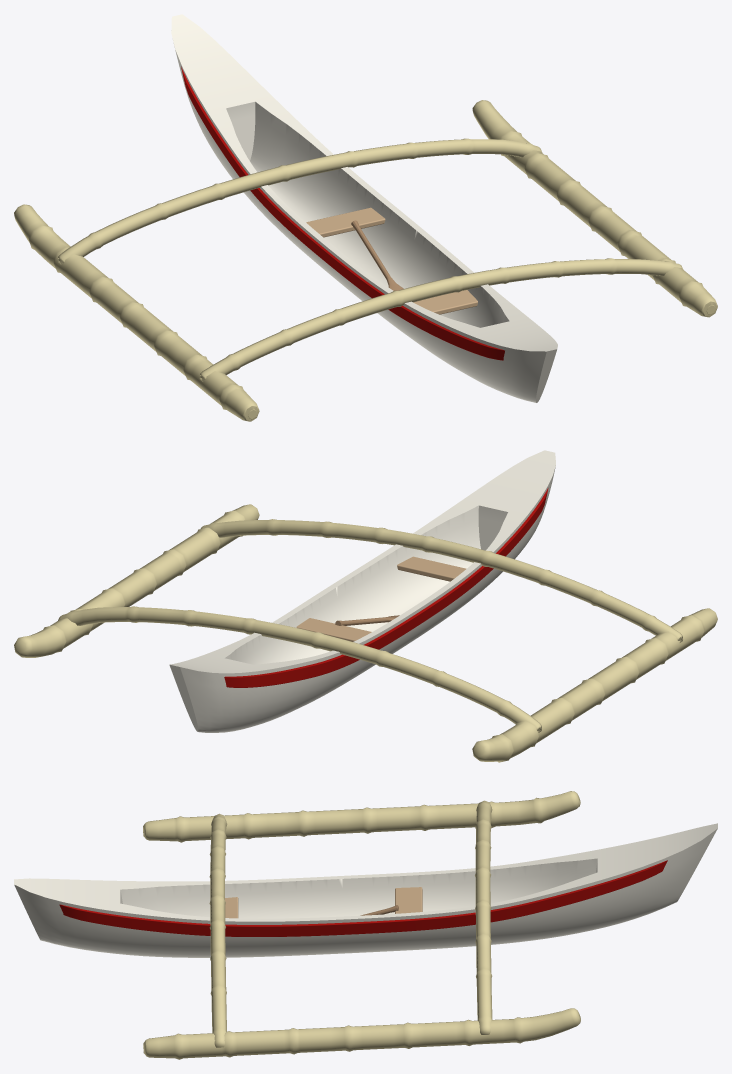
File: boat_bangka_beached_2000.glb
3 renders of one model, top to bottom at view 1: azimuth 30°, elevation 25°; view 2: azimuth 150°, elevation 25°; view 3: azimuth 270°, elevation 25°, orthographic. The views are drawn at different scales.
Parts seen in each view (by area): view 1: bangka_beached_2000_paint_hull, bangka_beached_2000_bamboo, bangka_beached_2000_paint_trim, bangka_beached_2000_plank; view 2: bangka_beached_2000_bamboo, bangka_beached_2000_paint_hull, bangka_beached_2000_paint_trim, bangka_beached_2000_plank; view 3: bangka_beached_2000_paint_hull, bangka_beached_2000_bamboo, bangka_beached_2000_paint_trim, bangka_beached_2000_plank.
Part boxes in pixels (left/top/right/bottom): bangka_beached_2000_paint_hull: left=171, top=14, right=557, bottom=402; bangka_beached_2000_bamboo: left=14, top=100, right=717, bottom=421; bangka_beached_2000_paint_trim: left=181, top=66, right=504, bottom=360; bangka_beached_2000_plank: left=306, top=207, right=477, bottom=314; bangka_beached_2000_bamboo: left=14, top=504, right=717, bottom=762; bangka_beached_2000_paint_hull: left=169, top=450, right=555, bottom=732; bangka_beached_2000_paint_trim: left=224, top=488, right=548, bottom=687; bangka_beached_2000_plank: left=296, top=556, right=466, bottom=641; bangka_beached_2000_paint_hull: left=14, top=823, right=717, bottom=957; bangka_beached_2000_bamboo: left=143, top=791, right=580, bottom=1059; bangka_beached_2000_paint_trim: left=59, top=860, right=667, bottom=936; bangka_beached_2000_plank: left=225, top=887, right=422, bottom=918.
Bounding box in the file's own units: 4.6 × 1.25 × 6.17.
